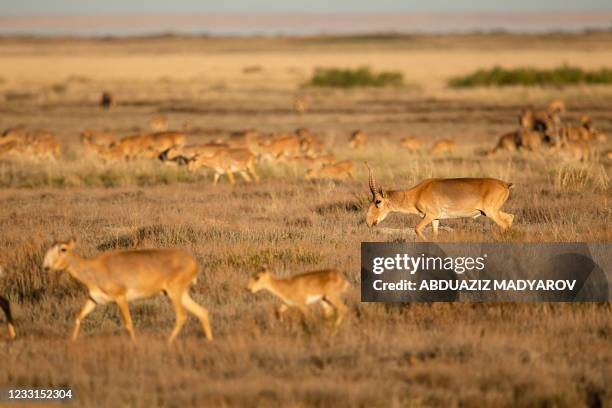saiga: (354, 156, 520, 240)
